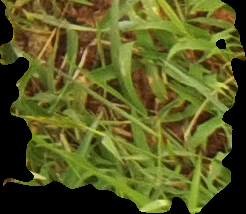grass: (1, 1, 244, 213)
